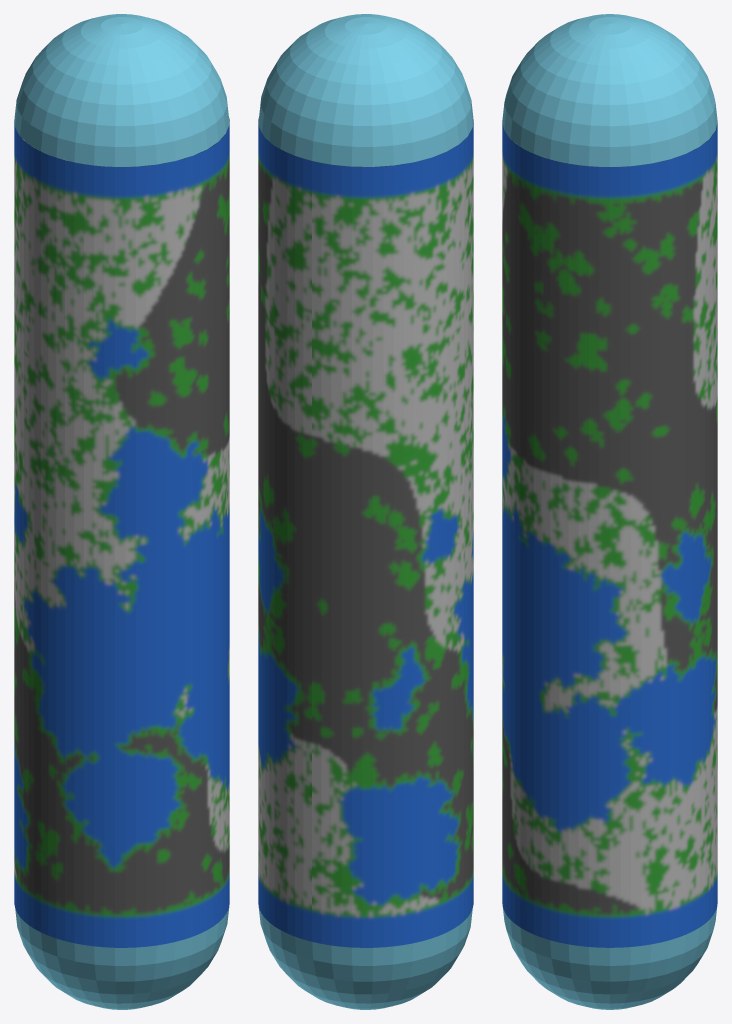
The picture shows the model from 3 angles, left to right: view 1: azimuth 30°, elevation 25°; view 2: azimuth 150°, elevation 25°; view 3: azimuth 270°, elevation 25°; orthographic projection.
Parts seen in each view (by area): view 1: Cylinder; view 2: Cylinder; view 3: Cylinder.
Part boxes in pixels (bbox=[...]): Cylinder: bbox=[14, 14, 229, 1009]; Cylinder: bbox=[258, 14, 473, 1009]; Cylinder: bbox=[502, 14, 717, 1009].
Size of the model in its own units: 8 by 40 by 8.
2 materials, 1 textured.
